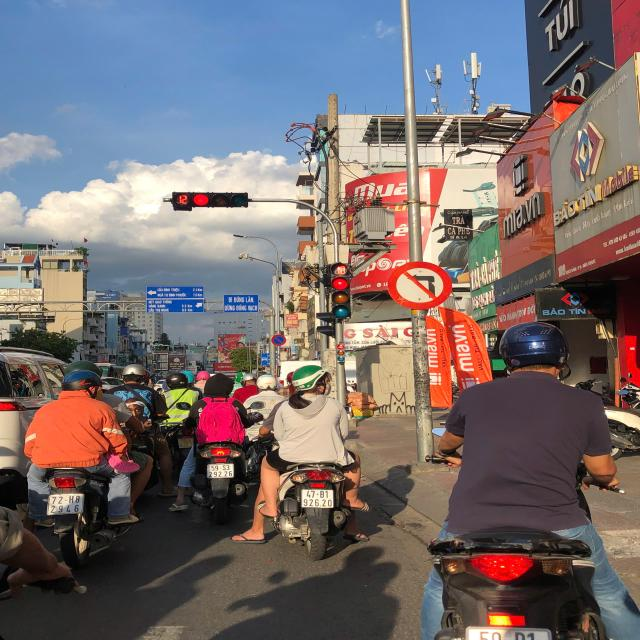Bien bao cam re trai: (384, 257, 456, 314)
